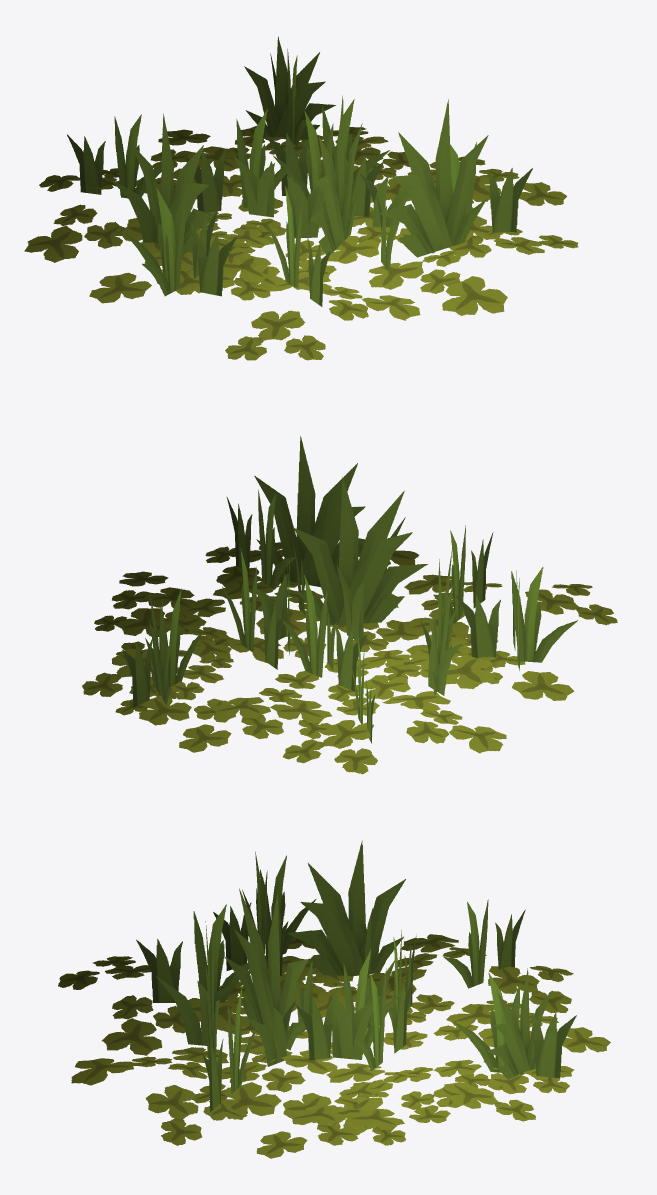
The model's file is SM_Env_Ground_Cover_02.fbx.
3 renders of one model, top to bottom at view 1: azimuth 30°, elevation 25°; view 2: azimuth 150°, elevation 25°; view 3: azimuth 270°, elevation 25°, orthographic. The views are drawn at different scales.
Parts seen in each view (by area): view 1: SM_Env_Ground_Cover_02_LOD0; view 2: SM_Env_Ground_Cover_02_LOD0; view 3: SM_Env_Ground_Cover_02_LOD0.
Part boxes in pixels (left/top/right/bottom): SM_Env_Ground_Cover_02_LOD0: left=24, top=36, right=578, bottom=360; SM_Env_Ground_Cover_02_LOD0: left=82, top=436, right=617, bottom=774; SM_Env_Ground_Cover_02_LOD0: left=58, top=840, right=610, bottom=1158.
Size of what is drawn, in the model's own units: 187 by 57.04 by 191.
